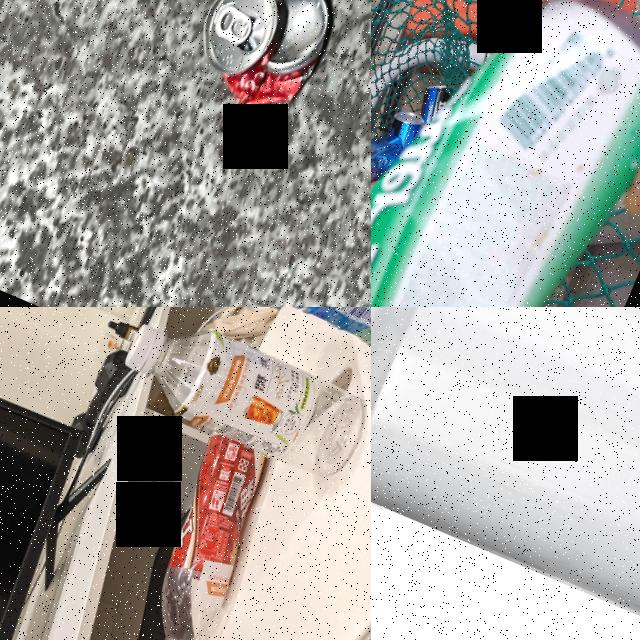bottle: (114, 307, 371, 484), (113, 426, 288, 640)
can: (371, 307, 640, 640)
